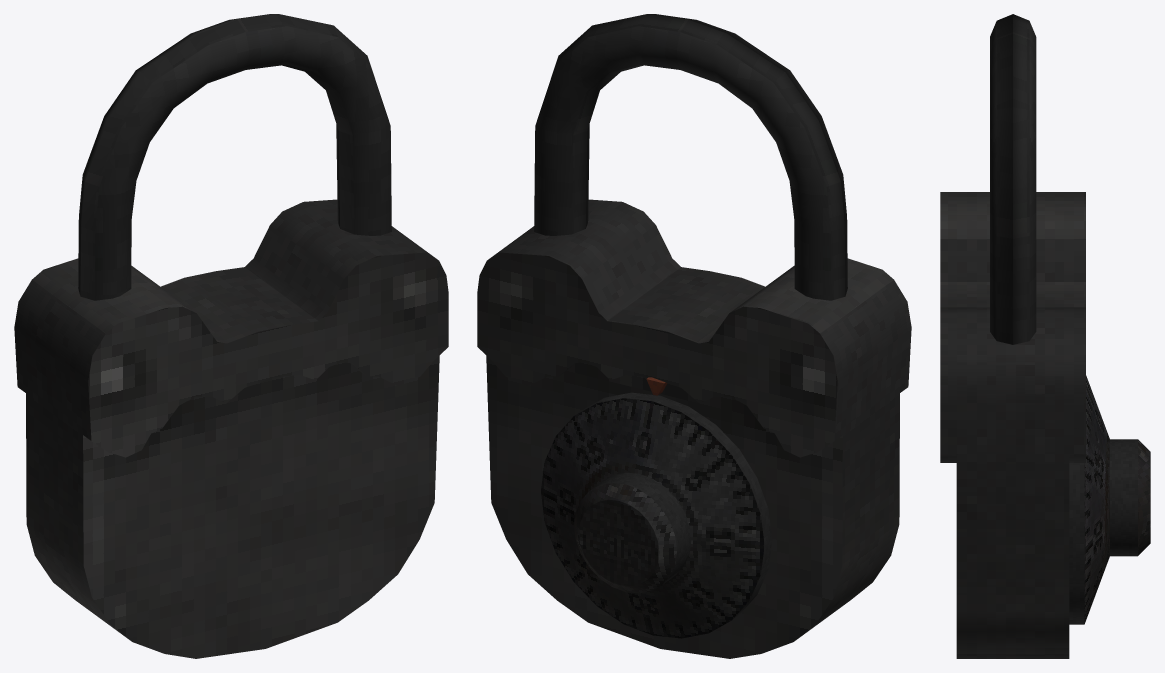
The model's file is padlock_2.glb.
The picture shows the model from 3 angles, left to right: view 1: azimuth 30°, elevation 25°; view 2: azimuth 150°, elevation 25°; view 3: azimuth 270°, elevation 25°; orthographic projection.
Visible parts, largest first — view 1: padlock_2; view 2: padlock_2, knob_1; view 3: padlock_2, knob_1.
Boxes of the visible parts, bbox=[...] form: padlock_2: bbox=[14, 14, 448, 658]; padlock_2: bbox=[477, 14, 911, 658]; knob_1: bbox=[541, 392, 772, 638]; padlock_2: bbox=[940, 14, 1085, 658]; knob_1: bbox=[1069, 375, 1150, 624].
Size of the model in its own units: 0.0805 by 0.1299 by 0.0413.
1 material, 1 textured.
